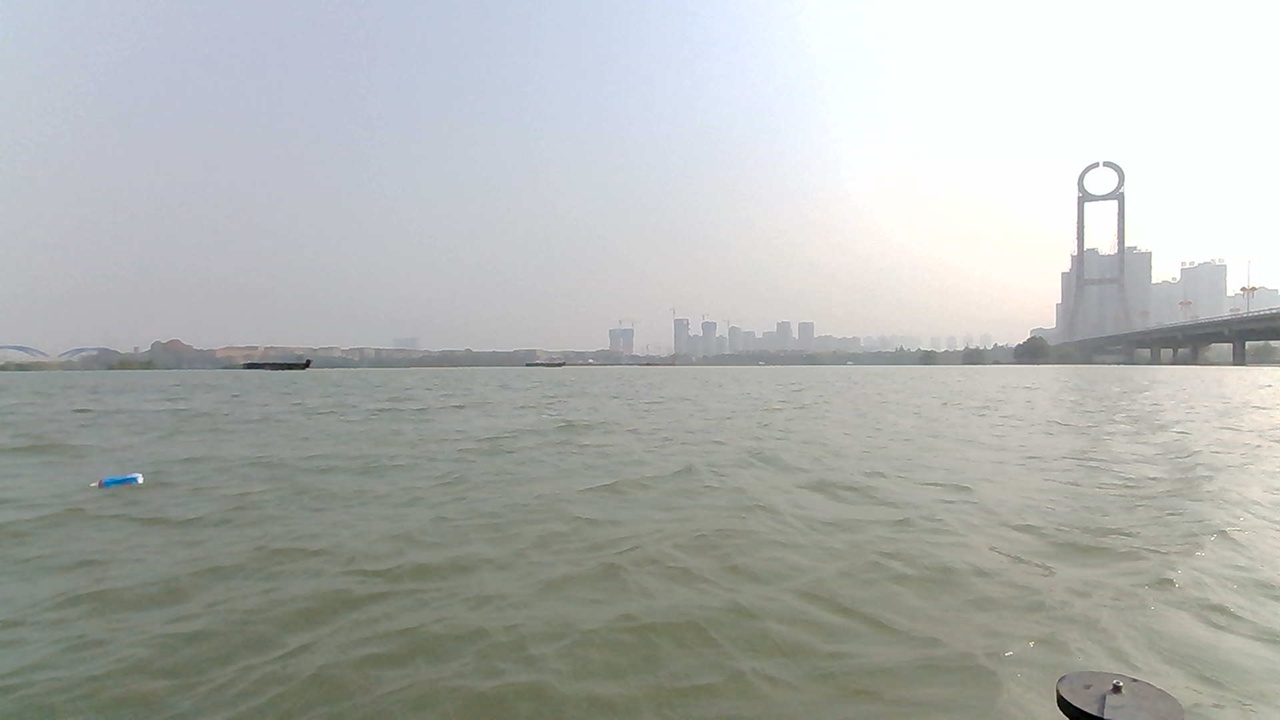bottle: (85, 467, 155, 501)
